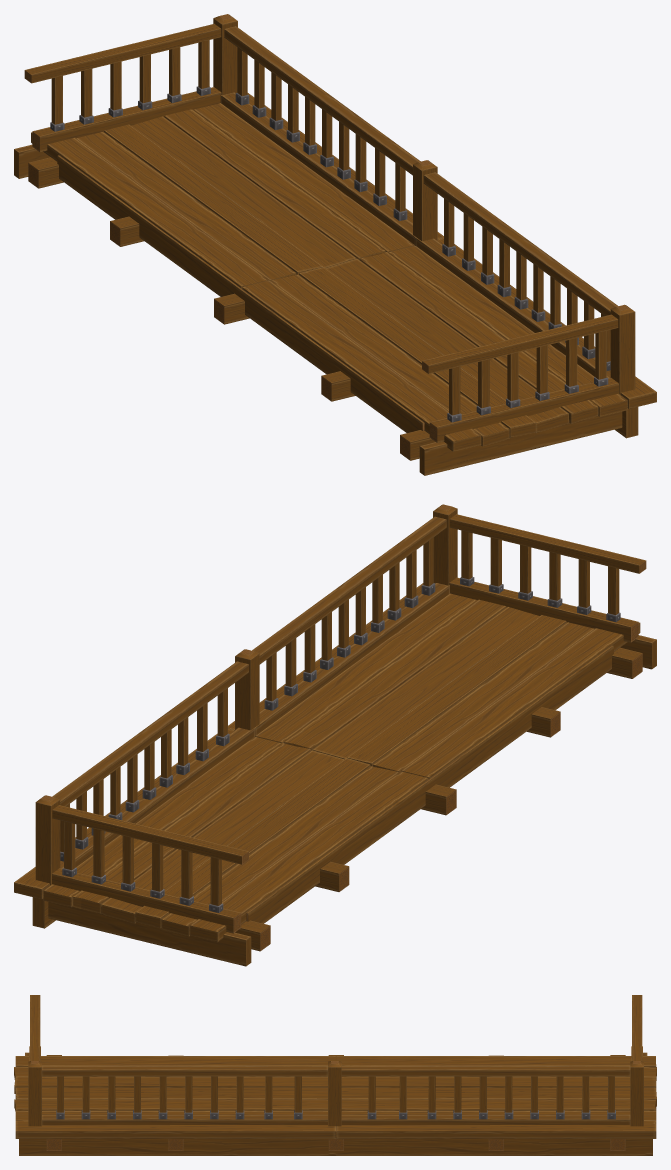
Rendered from SM_Balcony_02.fbx.
3 renders of one model, top to bottom at view 1: azimuth 30°, elevation 25°; view 2: azimuth 150°, elevation 25°; view 3: azimuth 270°, elevation 25°, orthographic. The views are drawn at different scales.
Visible parts, largest first — view 1: SM_Balcony_02; view 2: SM_Balcony_02; view 3: SM_Balcony_02.
Part boxes in pixels (box(x1,y1,x2,y2)): SM_Balcony_02: box(14, 14, 656, 475); SM_Balcony_02: box(14, 504, 656, 966); SM_Balcony_02: box(14, 995, 656, 1155).
Bounding box in the file's own units: 3.09 × 1.58 × 10.04.
